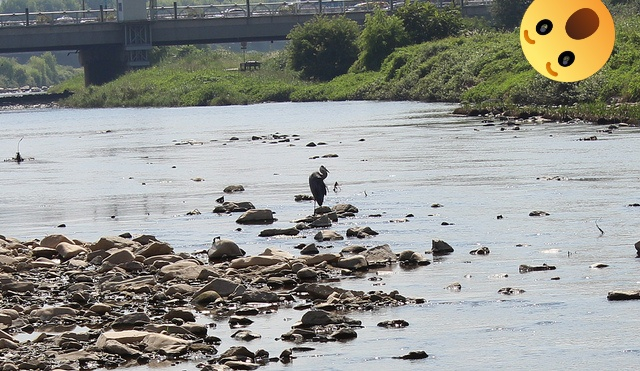wow: (520, 0, 615, 82)
